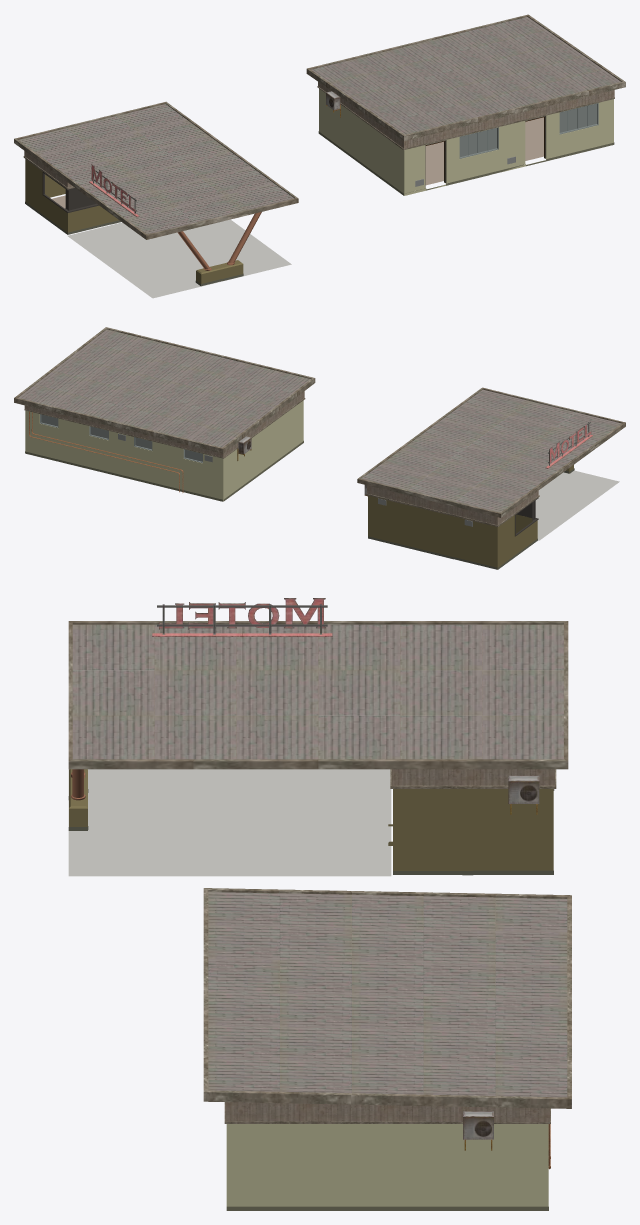
Rendered from modular-motel.zfix-v3.lod1.glb.
3 renders of one model, top to bottom at view 1: azimuth 30°, elevation 25°; view 2: azimuth 150°, elevation 25°; view 3: azimuth 270°, elevation 25°, orthographic. The views are drawn at different scales.
Parts seen in each view (by area): view 1: ReceptionCabinRoof_atlasMaterial01_0, ReceptionCabinWindow_ReceptionCabinWindows_0, motelSign_motelSign_0; view 2: ReceptionCabinRoof_atlasMaterial01_0, ReceptionCabinWindow_ReceptionCabinWindows_0, motelSign_motelSign_0, rustyPipe_rusty.001_0; view 3: ReceptionCabinRoof_atlasMaterial01_0, ReceptionCabinWindow_ReceptionCabinWindows_0, motelSign_motelSign_0, airconditioning.Low.011_air conditioning.004_0.
Part boxes in pixels (left/top/right/bottom): ReceptionCabinRoof_atlasMaterial01_0: left=14, top=14, right=625, bottom=239; ReceptionCabinWindow_ReceptionCabinWindows_0: left=25, top=88, right=614, bottom=298; motelSign_motelSign_0: left=89, top=164, right=139, bottom=217; ReceptionCabinRoof_atlasMaterial01_0: left=14, top=327, right=625, bottom=526; ReceptionCabinWindow_ReceptionCabinWindows_0: left=25, top=400, right=619, bottom=569; motelSign_motelSign_0: left=545, top=421, right=592, bottom=468; rustyPipe_rusty.001_0: left=29, top=411, right=183, bottom=492; ReceptionCabinRoof_atlasMaterial01_0: left=68, top=621, right=571, bottom=1123; ReceptionCabinWindow_ReceptionCabinWindows_0: left=68, top=769, right=554, bottom=1210; motelSign_motelSign_0: left=152, top=598, right=332, bottom=636; airconditioning.Low.011_air conditioning.004_0: left=463, top=775, right=539, bottom=1150.
Size of the model in its own units: 24.49 by 3.77 by 10.95.
Materials: 6 (5 with a texture image).
